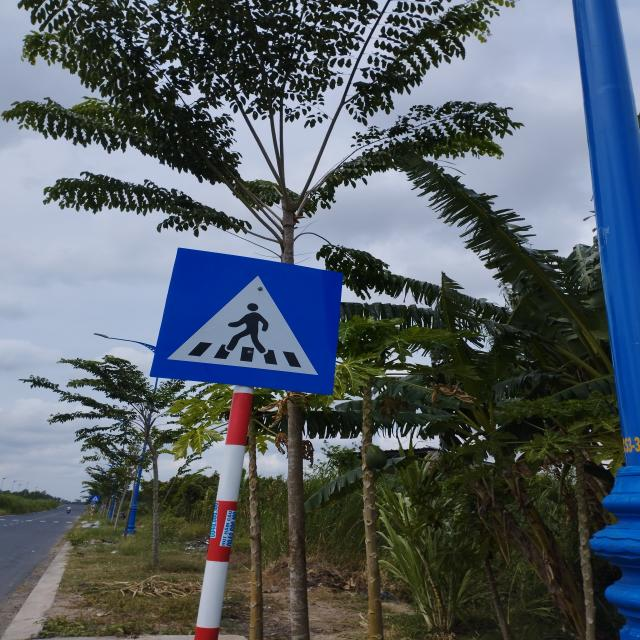Giao_Nhau_Duong_Uu_Tien: (151, 246, 342, 396)
